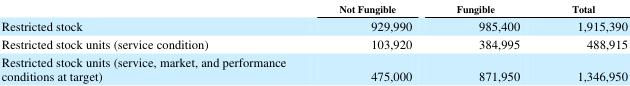table: (0, 1, 627, 83)
table column: (0, 1, 311, 83), (311, 1, 433, 83), (433, 1, 545, 83), (545, 1, 627, 83)
table column header: (0, 1, 627, 15)
table row: (0, 51, 627, 83), (0, 15, 627, 34), (0, 34, 627, 51), (0, 1, 627, 15)
